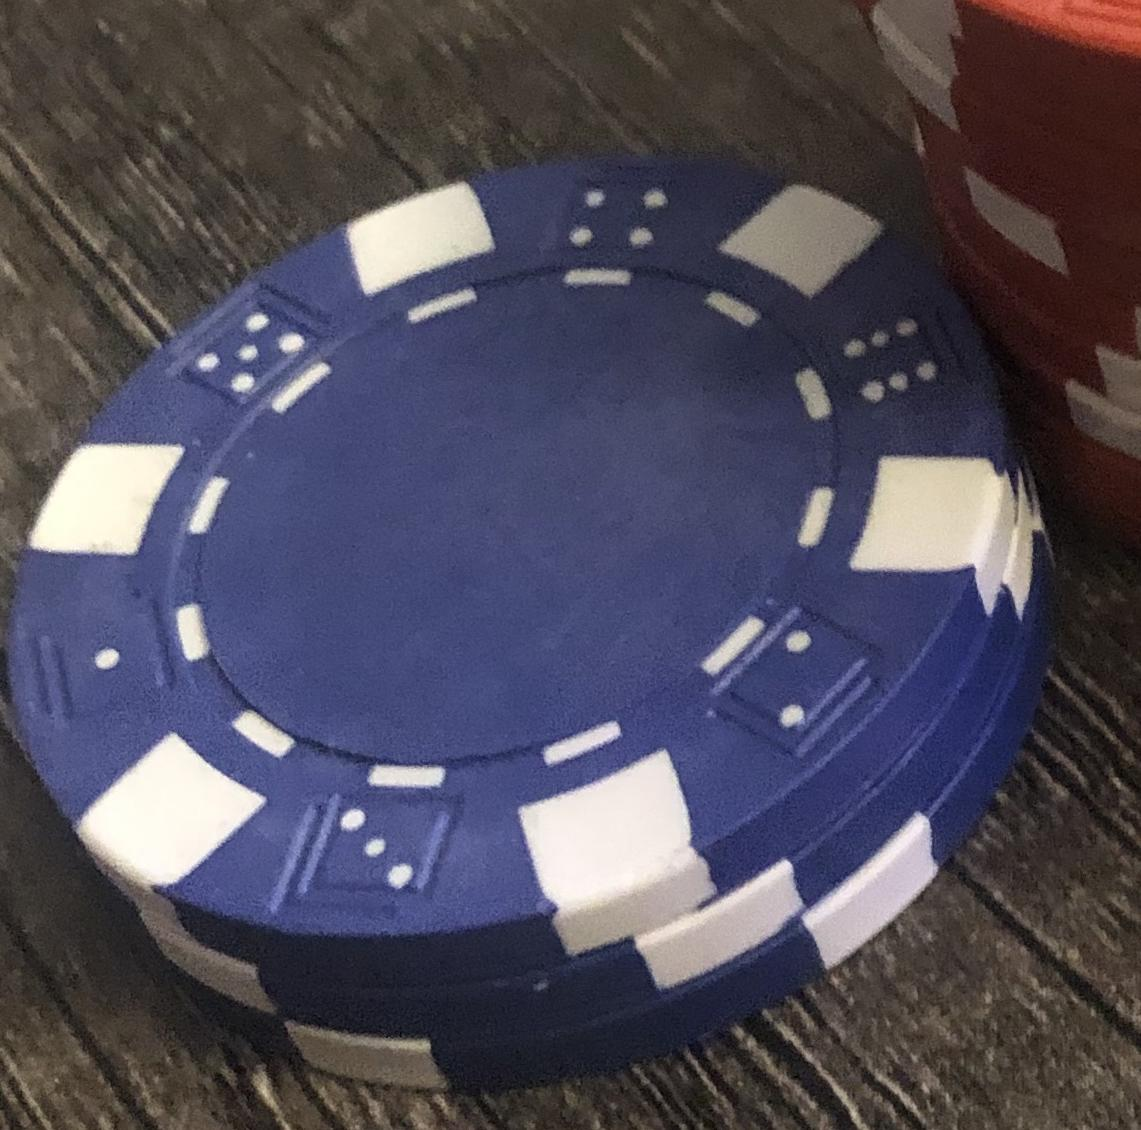Chip: (1, 1, 1141, 1130)
